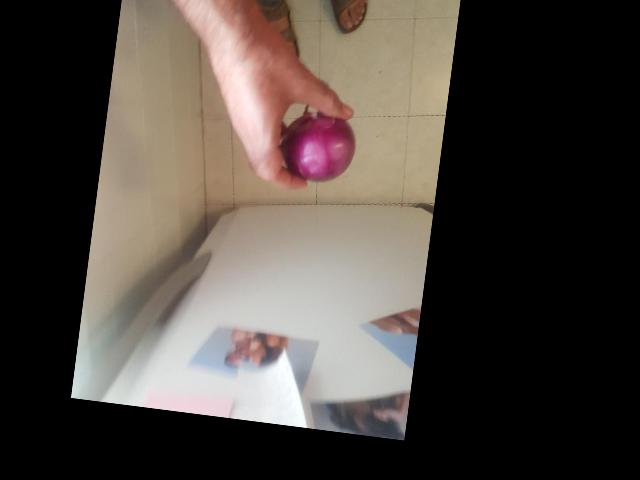onion: (280, 106, 355, 186)
